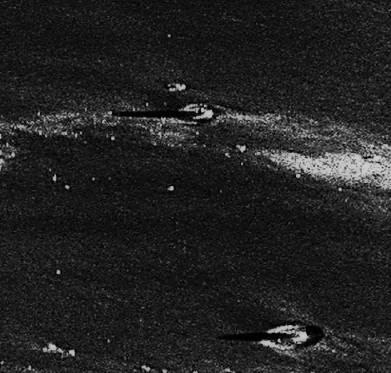mine: (219, 322, 322, 348), (105, 103, 212, 121)
